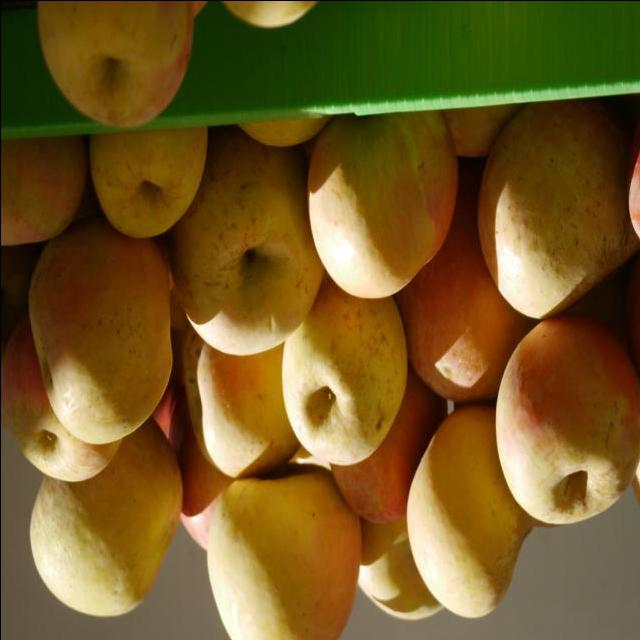Non_Gorille: (1, 0, 635, 639)
